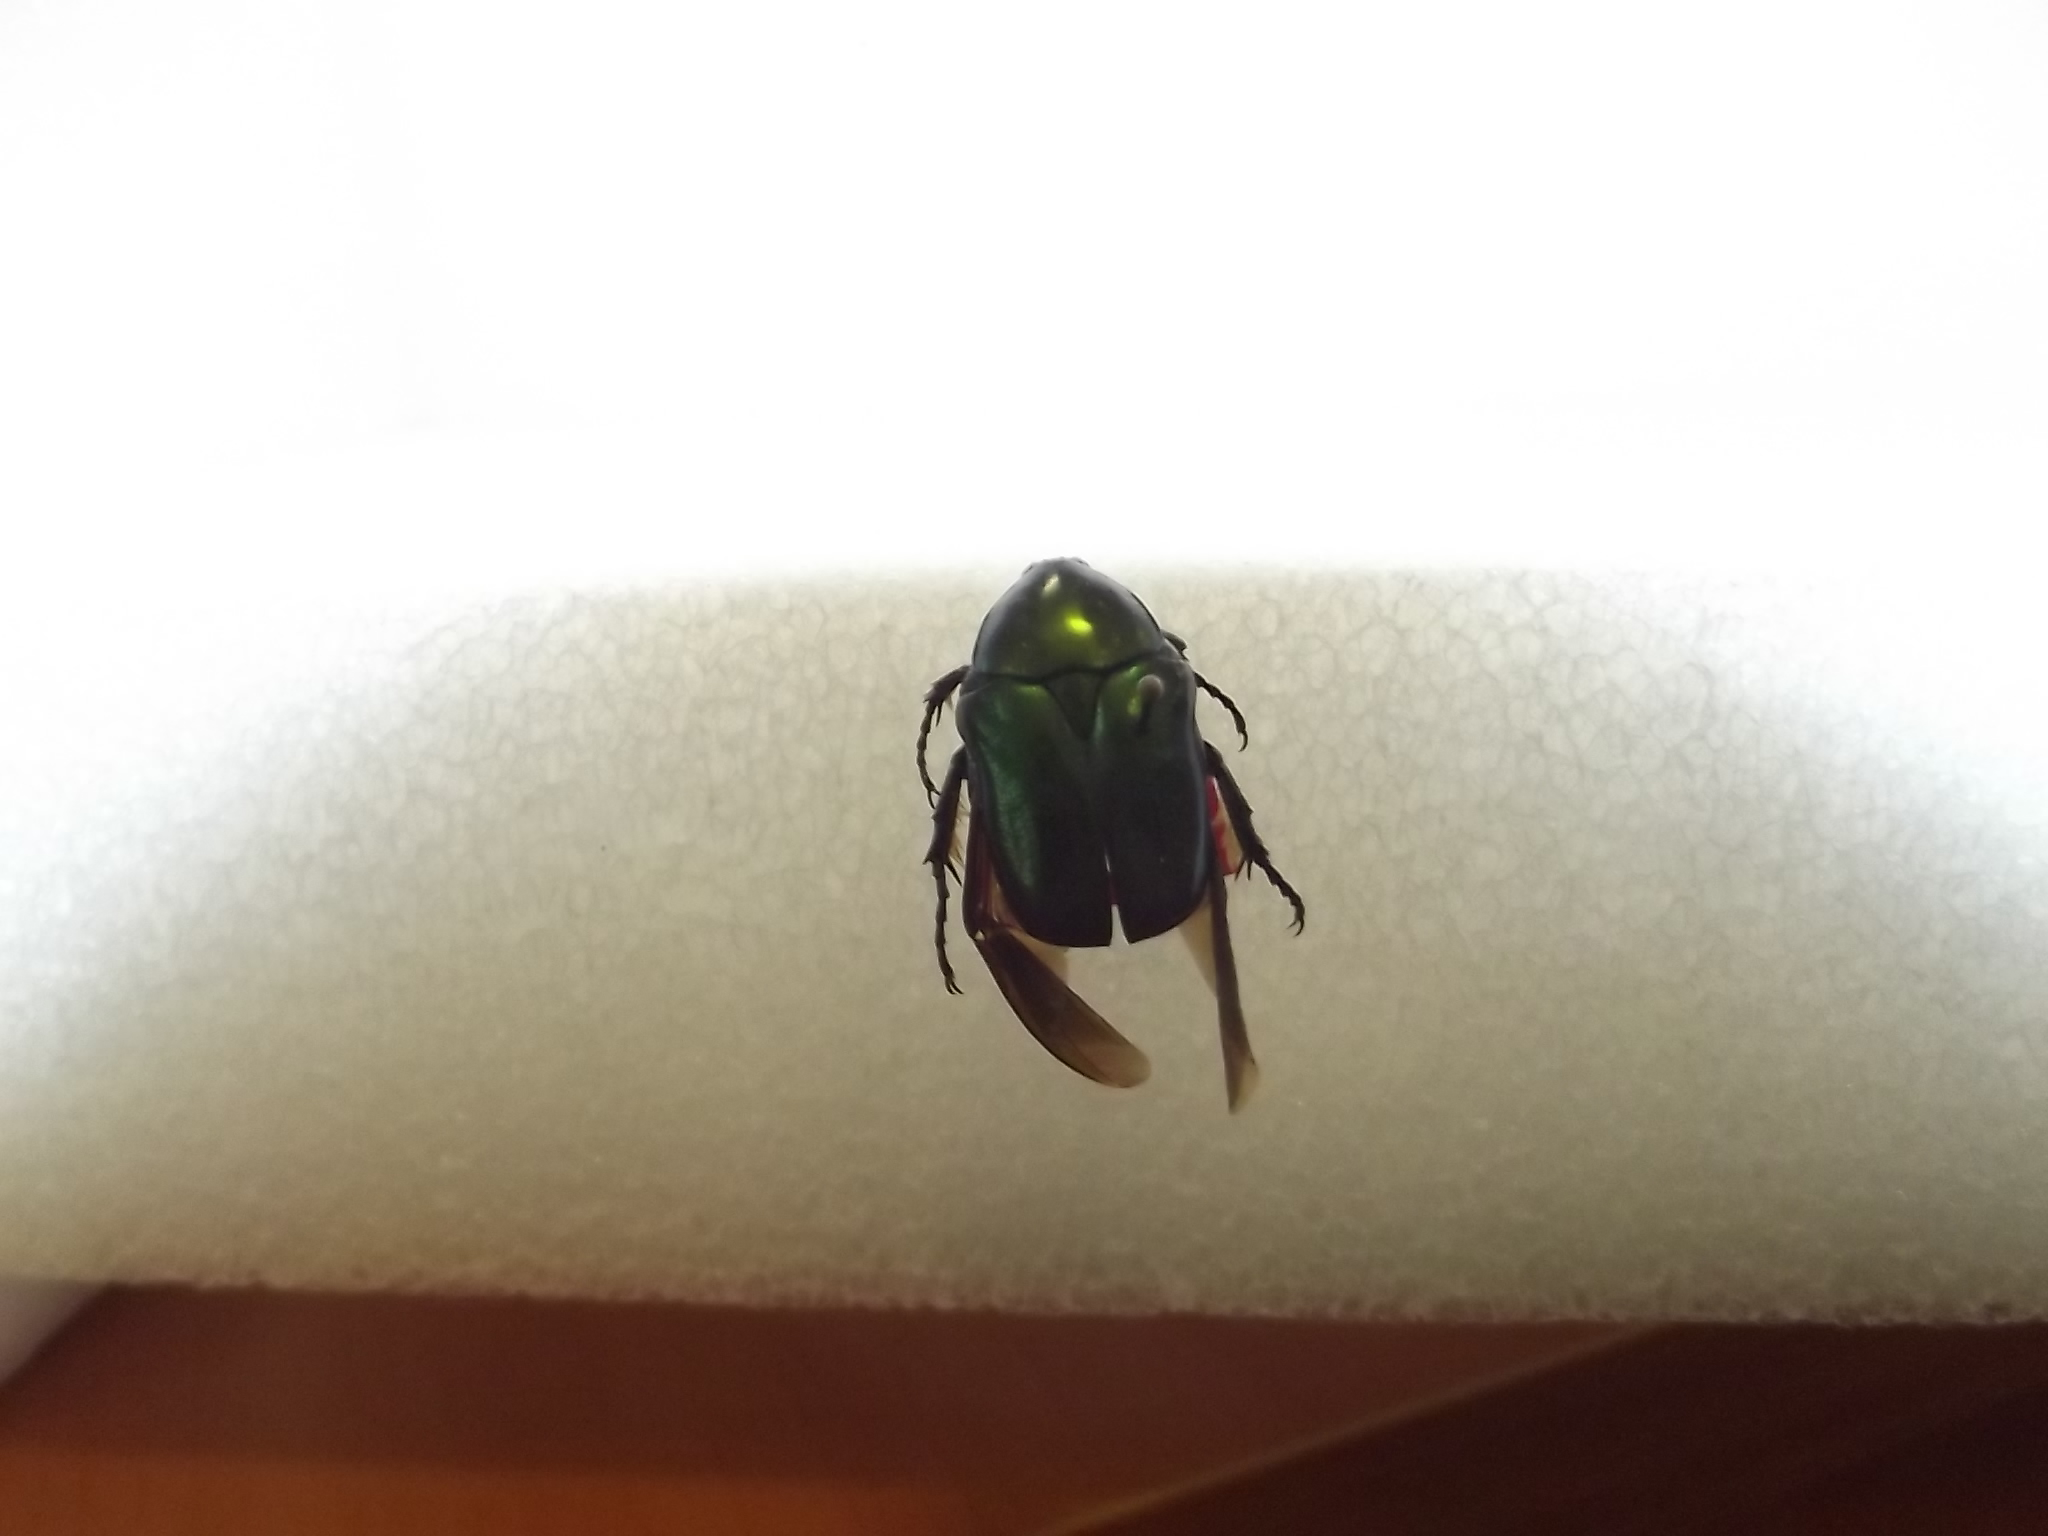Protaetia_besucheti: (893, 541, 1317, 1125)
